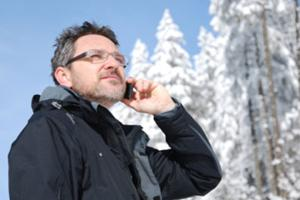person: (8, 23, 223, 200)
